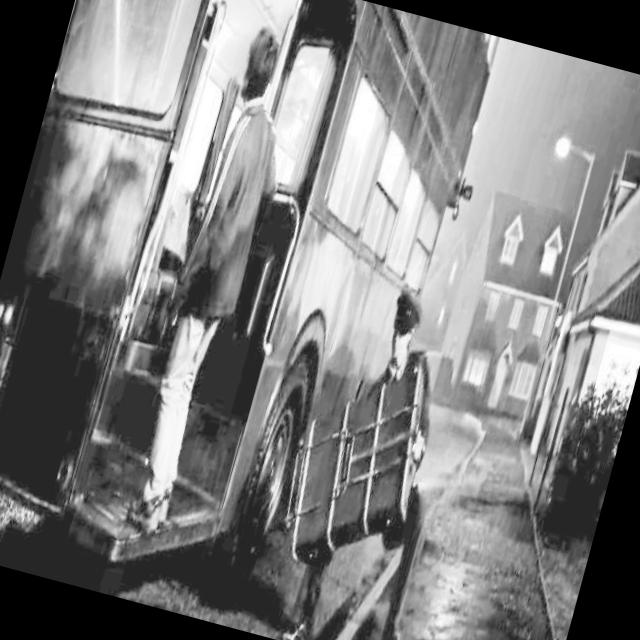Bus: (0, 0, 522, 627)
